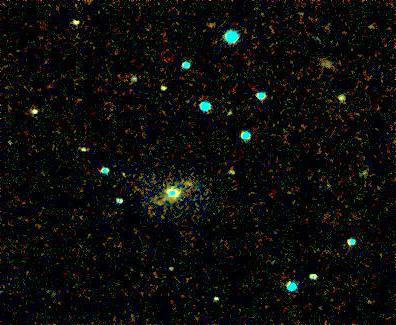star: (175, 164, 205, 194)
